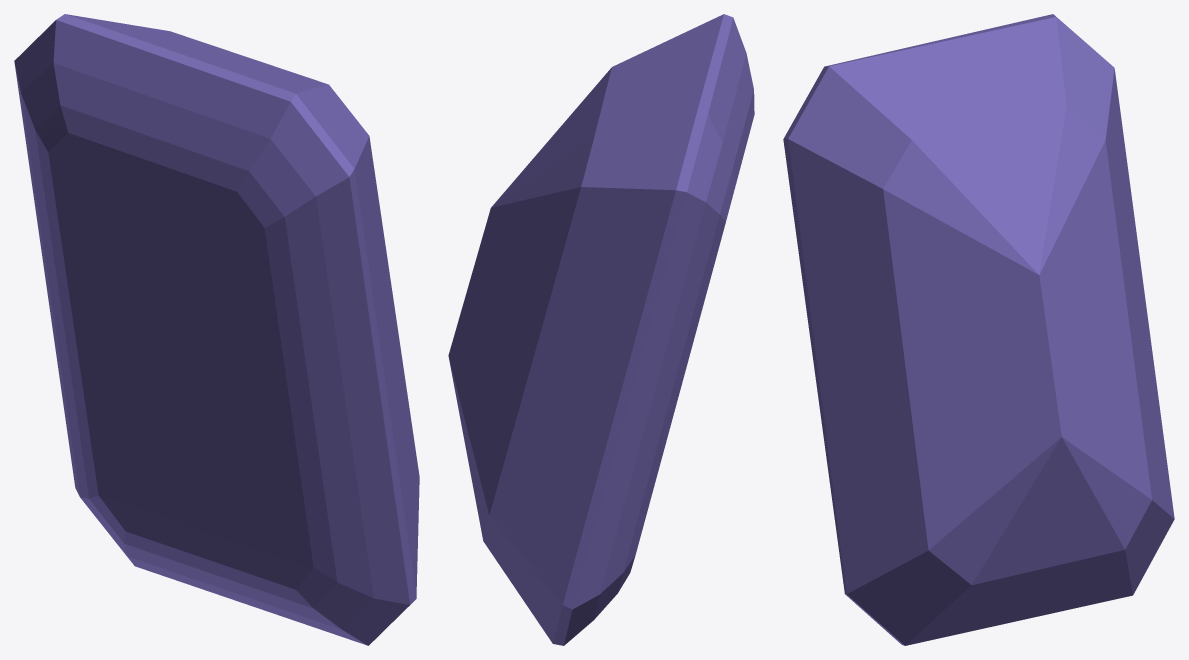
Rendered from TL4_8shapes_Emerald_Classic_Stone.001 2.glb.
3 renders of one model, left to right at view 1: azimuth 30°, elevation 25°; view 2: azimuth 150°, elevation 25°; view 3: azimuth 270°, elevation 25°, orthographic. The views are drawn at different scales.
Visible parts, largest first — view 1: TL4_8shapes_Emerald_Classic_Stone.001; view 2: TL4_8shapes_Emerald_Classic_Stone.001; view 3: TL4_8shapes_Emerald_Classic_Stone.001.
Boxes of the visible parts, bbox=[...] form: TL4_8shapes_Emerald_Classic_Stone.001: bbox=[14, 14, 419, 645]; TL4_8shapes_Emerald_Classic_Stone.001: bbox=[448, 14, 754, 645]; TL4_8shapes_Emerald_Classic_Stone.001: bbox=[783, 14, 1174, 645].
Bounding box in the file's own units: 0.3101 × 0.5914 × 0.3906.
